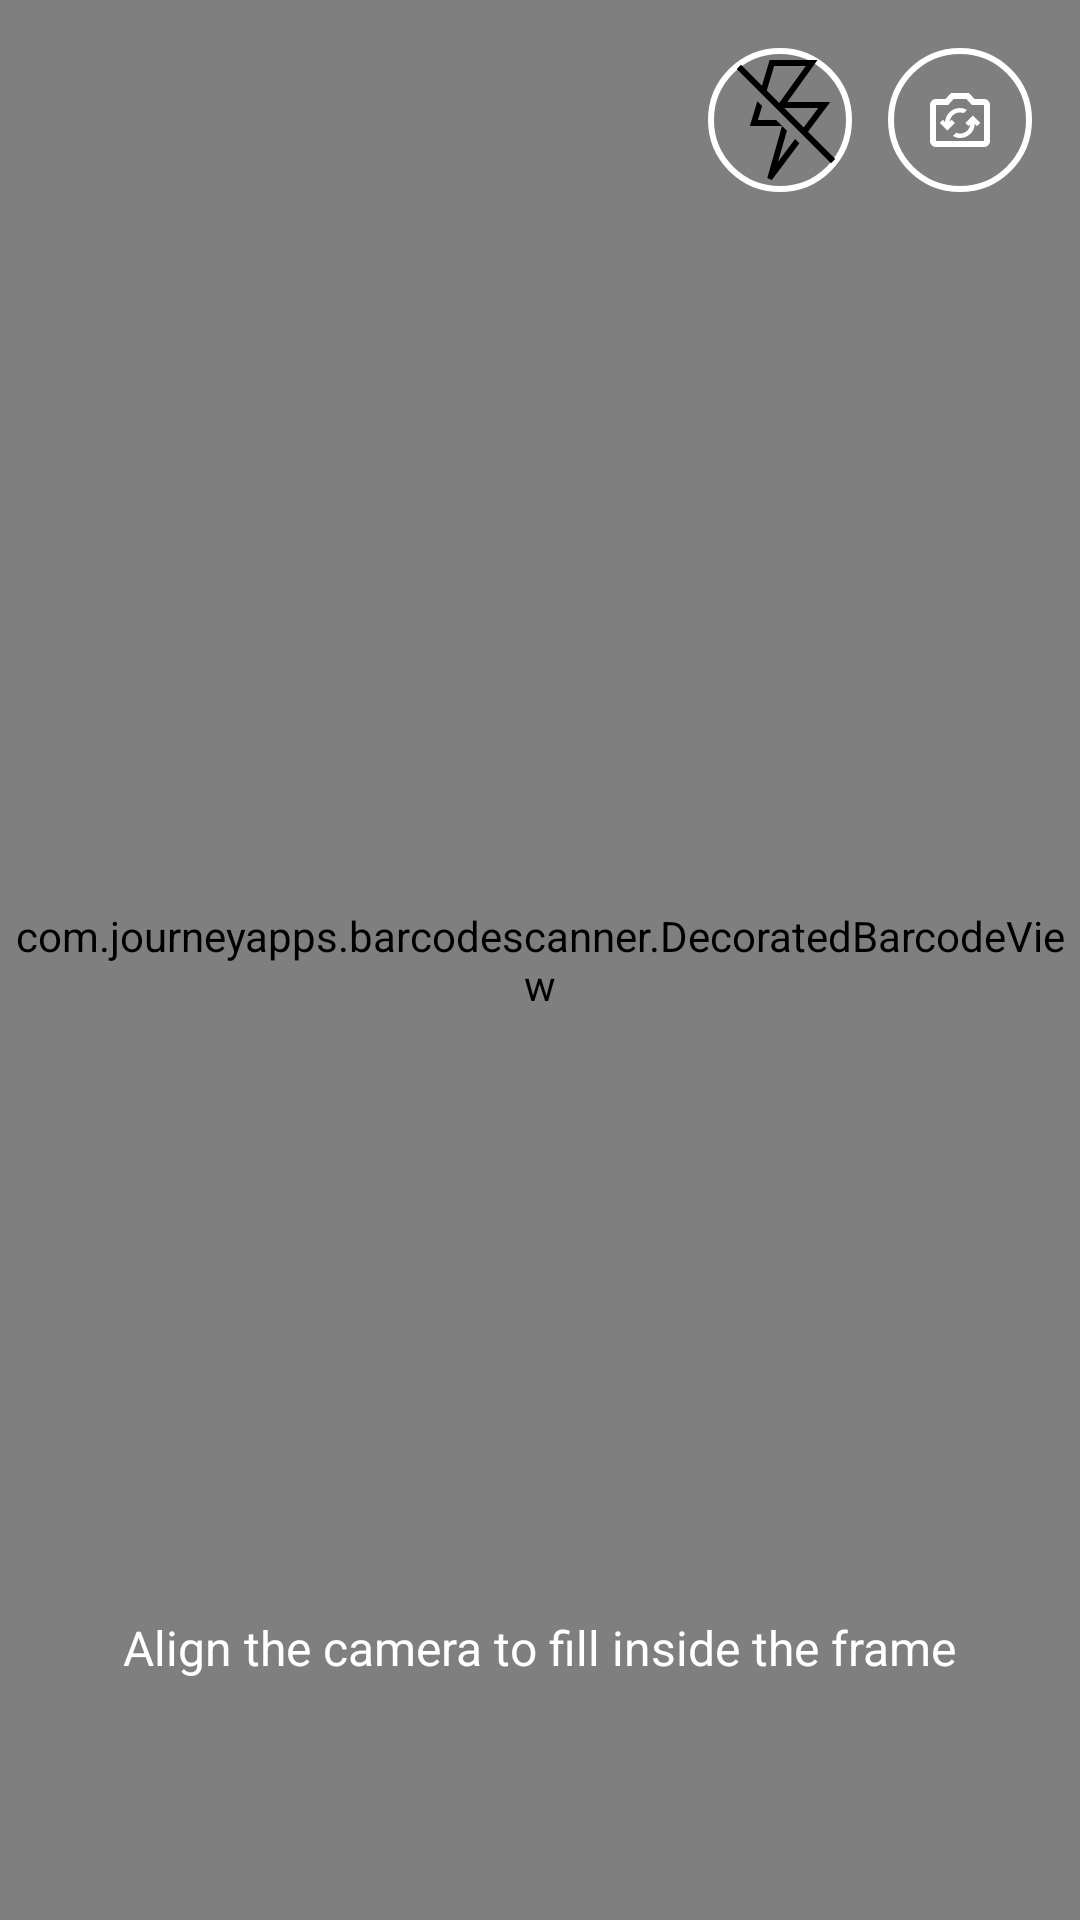

Icon bounding boxes for this 1080px x 1920px phone screenshot, format (x1, y1, x2, y2):
Toggle flash: (708, 48, 852, 192)
